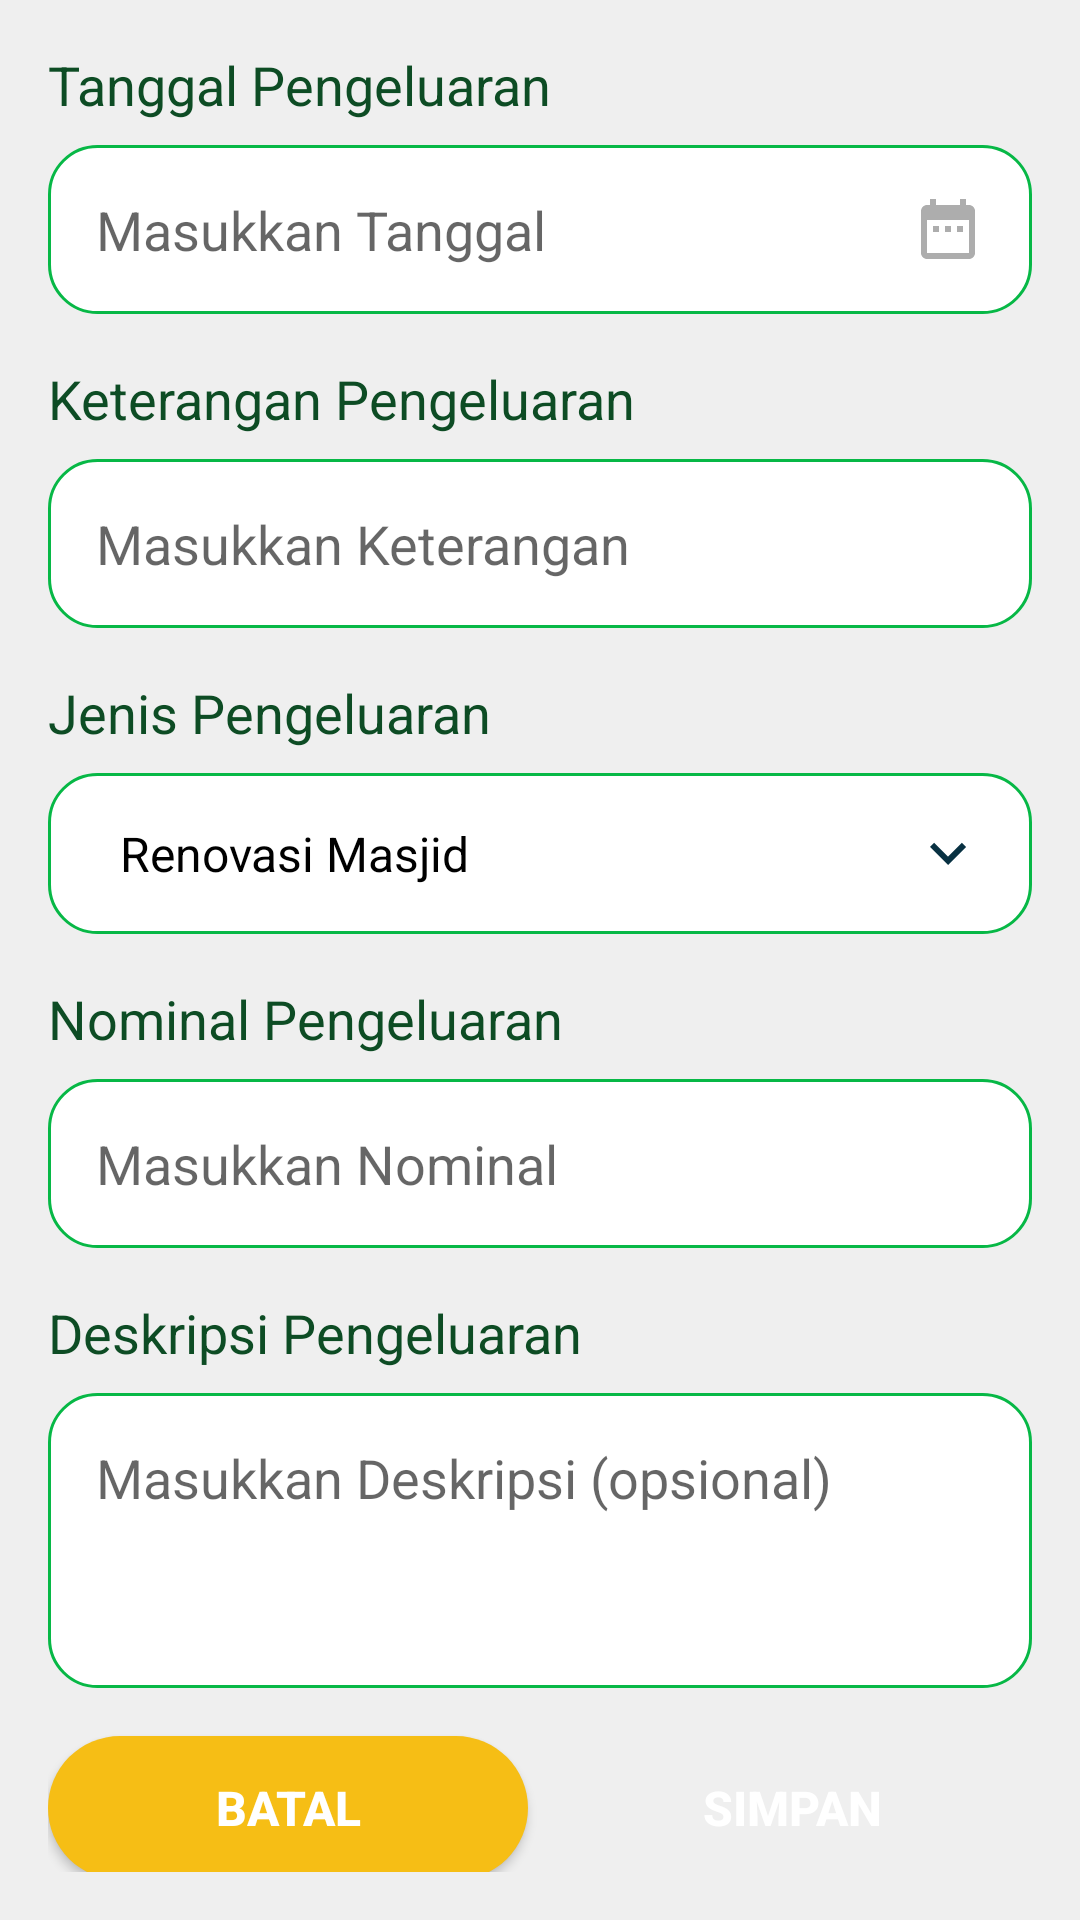

Icons on this 1080px×1920px Android screen, each with the point to tap as [x,y]:
arrow down: [948,854]
